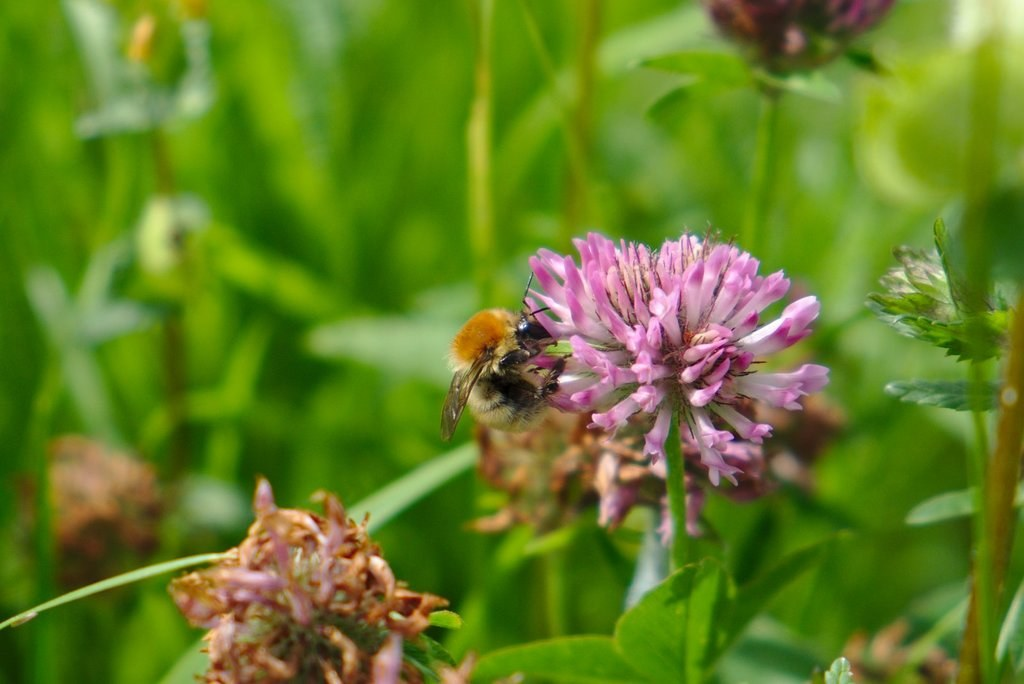bee: (441, 291, 586, 464)
insect: (502, 216, 832, 516), (162, 472, 441, 683)
